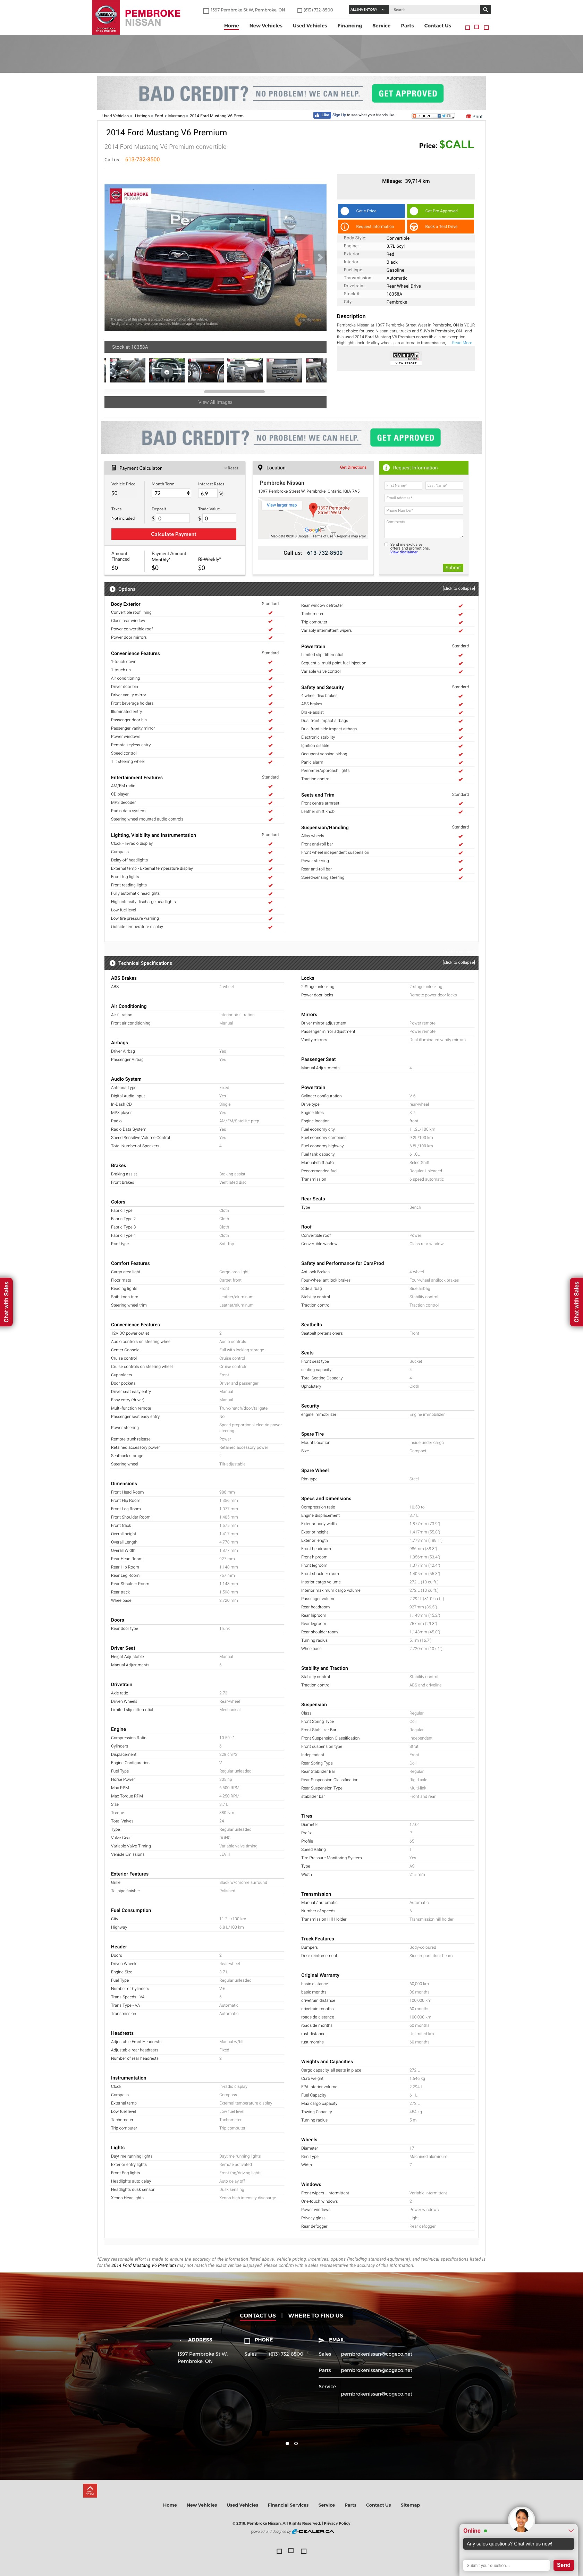car: (312, 248, 328, 266)
